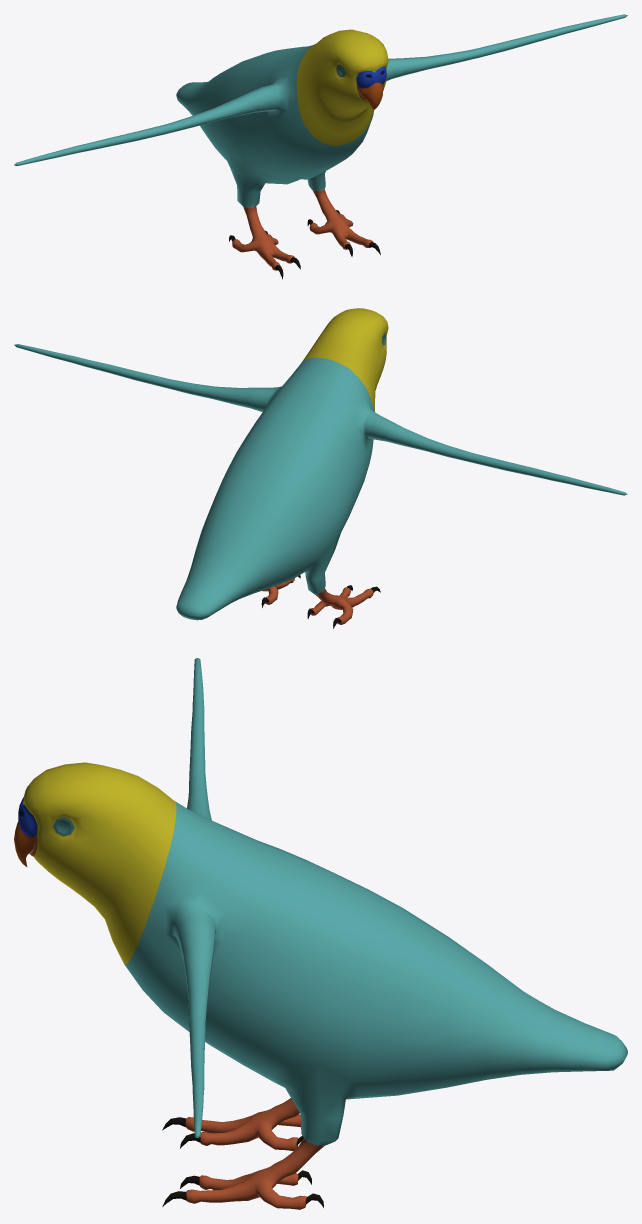
Rendered from budgie_budgie_triangulated.obj.
3 renders of one model, top to bottom at view 1: azimuth 30°, elevation 25°; view 2: azimuth 150°, elevation 25°; view 3: azimuth 270°, elevation 25°, orthographic. The views are drawn at different scales.
Bounding box in the file's own units: 0.3792 × 0.1471 × 0.205.
